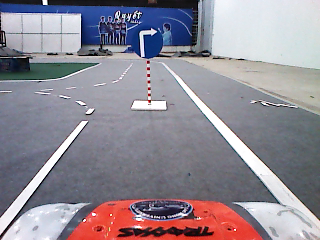turn: (130, 24, 164, 60)
